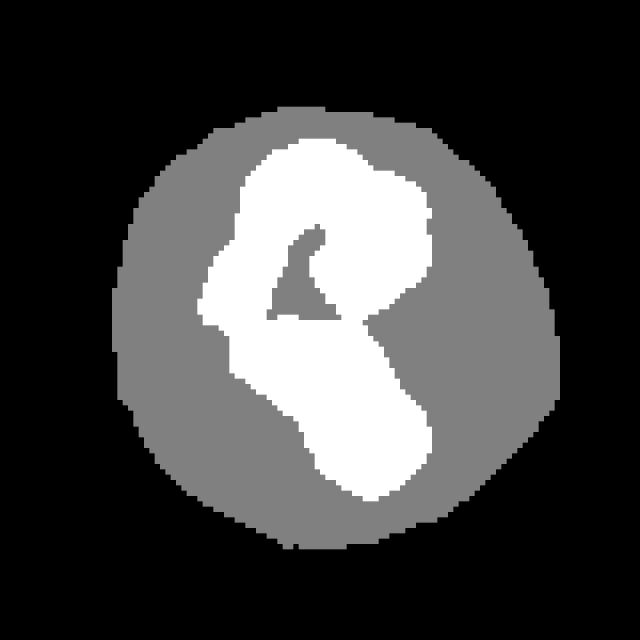WBC: (80, 91, 571, 576)
